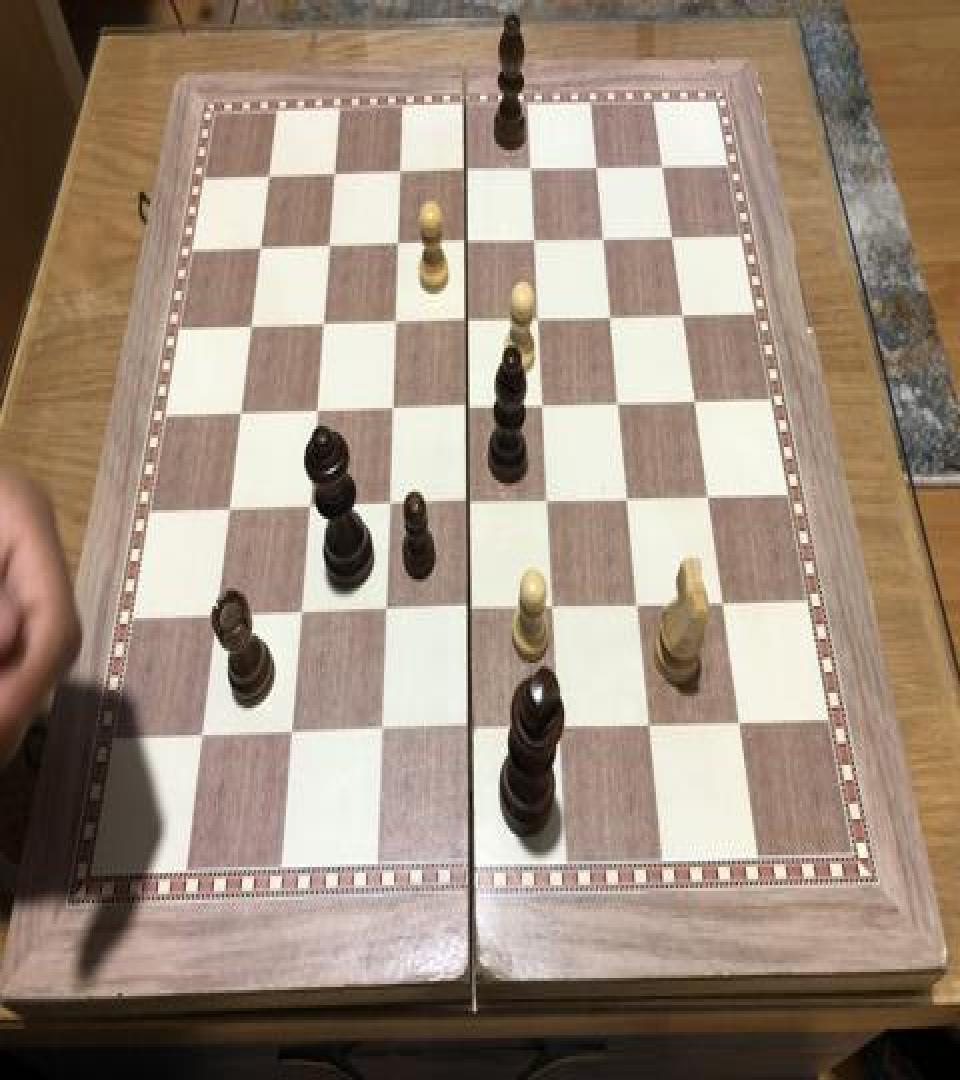xcorner: (626, 586, 650, 623), (727, 703, 751, 740), (651, 147, 675, 183), (586, 150, 610, 186), (521, 152, 545, 188), (455, 153, 479, 189), (390, 154, 414, 190), (324, 156, 348, 192), (258, 158, 282, 194), (661, 219, 685, 255), (593, 220, 617, 256), (524, 222, 548, 258), (456, 224, 480, 260), (387, 226, 411, 262), (318, 228, 342, 264), (249, 230, 273, 266), (672, 297, 696, 333), (600, 298, 624, 334), (528, 300, 552, 336), (456, 302, 480, 338), (384, 304, 408, 340), (312, 306, 336, 342), (240, 308, 264, 344), (683, 382, 707, 418), (608, 384, 632, 420), (532, 387, 556, 423), (456, 388, 480, 424), (381, 390, 405, 426), (305, 393, 329, 429), (229, 394, 253, 430), (696, 477, 720, 513), (617, 480, 641, 516), (537, 482, 561, 518), (457, 484, 481, 520), (377, 488, 401, 524), (297, 489, 321, 525), (217, 492, 241, 528), (711, 584, 735, 620), (542, 590, 566, 626), (458, 591, 482, 627), (373, 594, 397, 630), (288, 597, 312, 633), (204, 598, 228, 634), (637, 706, 661, 742), (548, 710, 572, 746), (458, 711, 482, 747), (368, 714, 392, 750), (279, 717, 303, 753), (189, 720, 213, 756)
